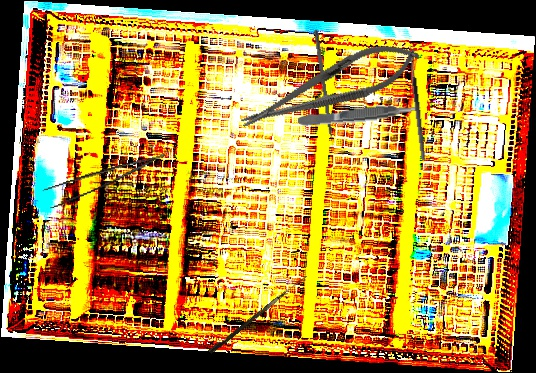Hook Surgical: (208, 271, 307, 356), (401, 44, 427, 161), (312, 29, 336, 154)
Needle Holder: (233, 30, 426, 144)
Tissue Forceps: (39, 153, 171, 210), (297, 101, 422, 128)
